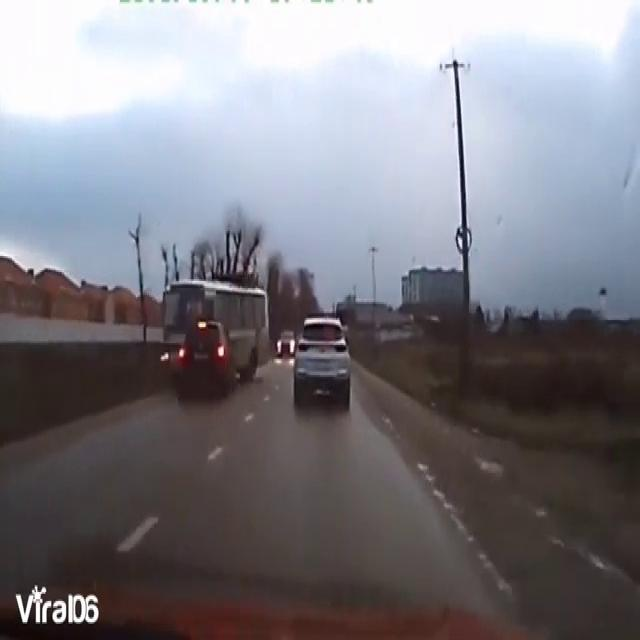moderate: (157, 263, 274, 403)
